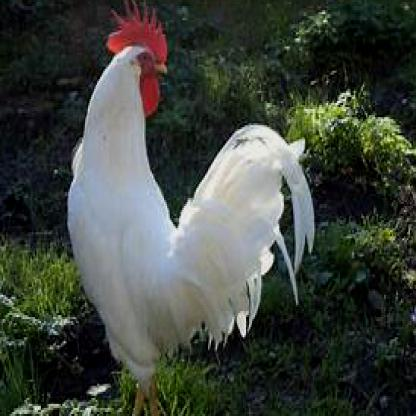chicken: (62, 0, 319, 414)
